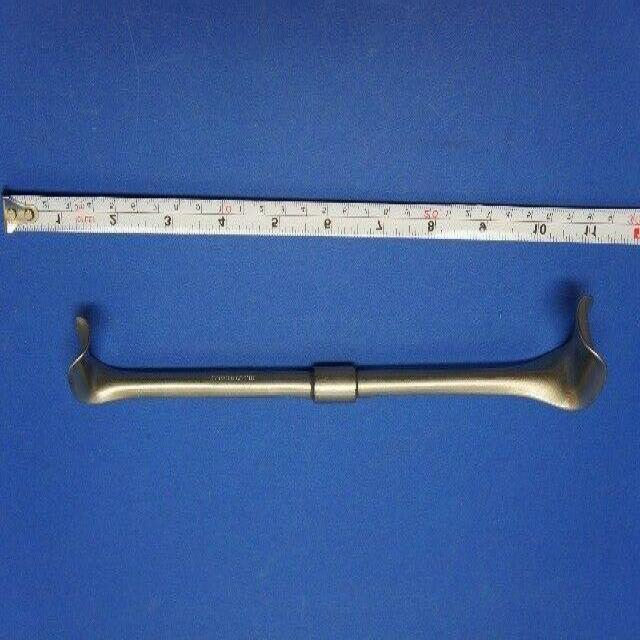Richardson: (64, 275, 609, 425)
